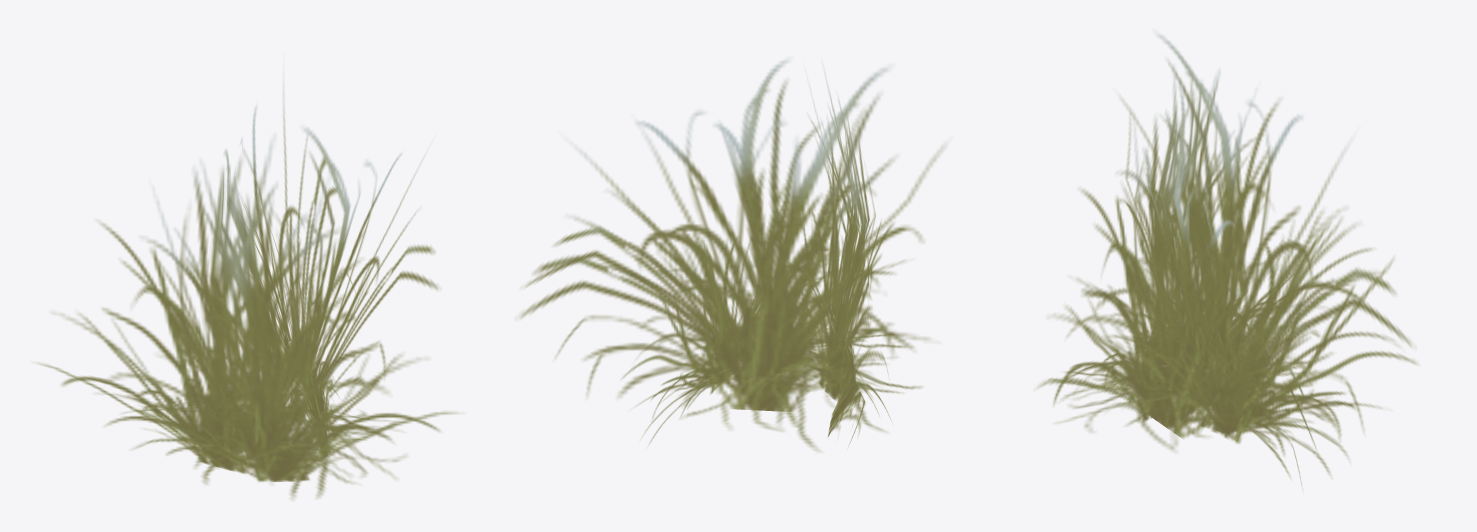
File: ichu_09_nieve.glb
3 views of the same model, side by side, from view 1: azimuth 30°, elevation 25°; view 2: azimuth 150°, elevation 25°; view 3: azimuth 270°, elevation 25° (orthographic). The views are drawn at different scales.
Visible parts, largest first — view 1: Ichu; view 2: Ichu; view 3: Ichu.
Boxes of the visible parts, bbox=[...] form: Ichu: bbox=[37, 78, 458, 499]; Ichu: bbox=[520, 58, 945, 451]; Ichu: bbox=[1037, 31, 1417, 488].
Size of the model in its own units: 0.3076 by 0.29 by 0.2882.
1 material, 1 textured.
